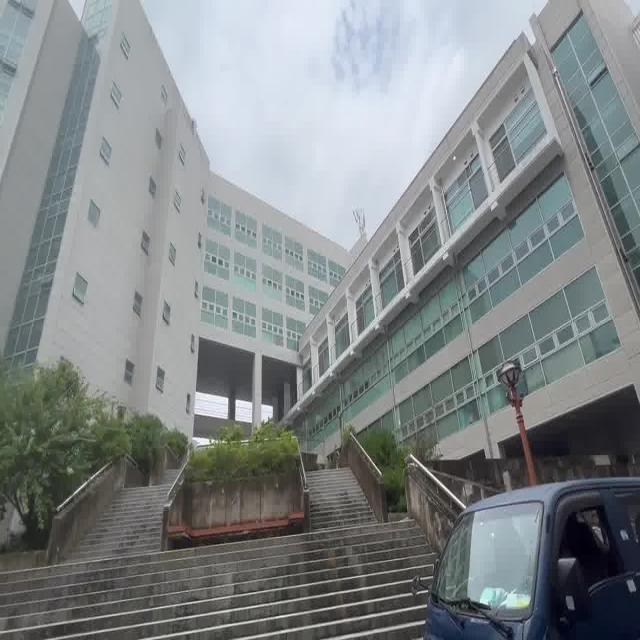building: (0, 14, 626, 369)
